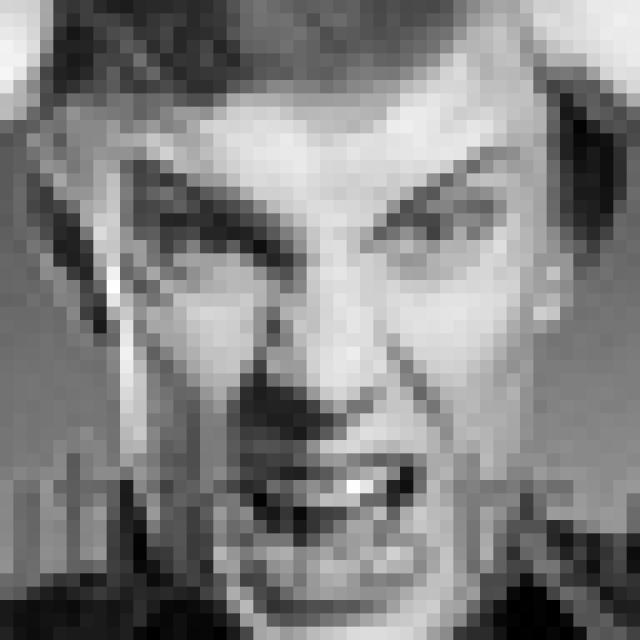angry: (111, 142, 526, 580)
